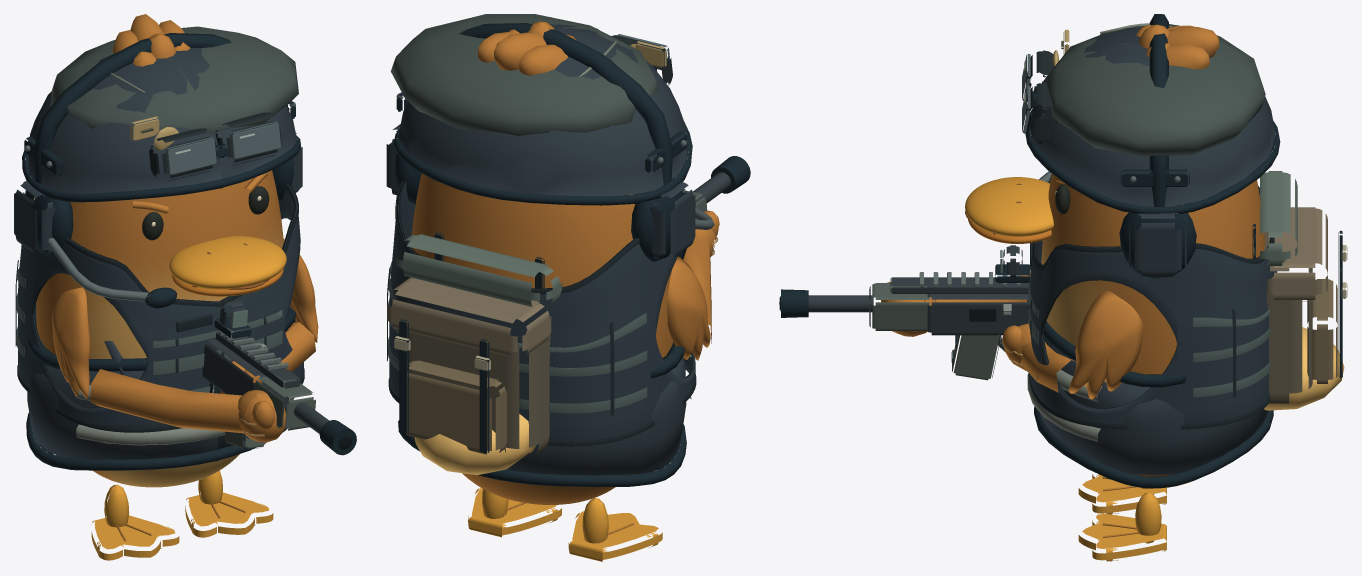
Rendered from duck-fitted.glb.
The picture shows the model from 3 angles, left to right: view 1: azimuth 30°, elevation 25°; view 2: azimuth 150°, elevation 25°; view 3: azimuth 270°, elevation 25°; orthographic projection. The views are drawn at different scales.
Parts seen in each view (by area): view 1: duck_vest_mesh, duck_torso_mesh, duck_helmet_mesh, duck_weapon_mesh, duck_beret_mesh, duck_vestPadded_mesh, duck_headset_mesh, duck_beak_mesh, duck_goggles_mesh, duck_leftArm_mesh, duck_leftFoot_mesh, duck_rightFoot_mesh (+5 smaller); view 2: duck_pack_mesh, duck_vest_mesh, duck_helmet_mesh, duck_beret_mesh, duck_torso_mesh, duck_vestPadded_mesh, duck_headset_mesh, duck_leftFoot_mesh, duck_weapon_mesh, duck_leftArm_mesh, duck_tail_mesh, duck_crestSwept_mesh (+2 smaller); view 3: duck_vest_mesh, duck_beret_mesh, duck_weapon_mesh, duck_helmet_mesh, duck_vestPadded_mesh, duck_pack_mesh, duck_torso_mesh, duck_headset_mesh, duck_rightArm_mesh, duck_beak_mesh, duck_rightFoot_mesh, duck_goggles_mesh (+3 smaller).
Boxes of the visible parts, x1,y1,x2,y2 form: duck_vest_mesh: [15, 183, 304, 432]; duck_torso_mesh: [36, 170, 283, 487]; duck_helmet_mesh: [22, 48, 301, 202]; duck_weapon_mesh: [90, 300, 356, 455]; duck_beret_mesh: [50, 26, 298, 150]; duck_vestPadded_mesh: [26, 305, 295, 470]; duck_headset_mesh: [14, 33, 302, 308]; duck_beak_mesh: [169, 236, 286, 296]; duck_goggles_mesh: [149, 112, 281, 181]; duck_leftArm_mesh: [52, 287, 90, 398]; duck_leftFoot_mesh: [91, 484, 179, 560]; duck_rightFoot_mesh: [185, 470, 273, 537]; duck_pack_mesh: [387, 232, 562, 454]; duck_vest_mesh: [387, 181, 696, 446]; duck_helmet_mesh: [393, 23, 692, 205]; duck_beret_mesh: [390, 14, 658, 135]; duck_torso_mesh: [411, 173, 673, 504]; duck_vestPadded_mesh: [398, 342, 691, 486]; duck_headset_mesh: [386, 23, 714, 261]; duck_leftFoot_mesh: [568, 498, 662, 561]; duck_weapon_mesh: [682, 156, 750, 343]; duck_leftArm_mesh: [667, 256, 710, 360]; duck_tail_mesh: [414, 414, 535, 475]; duck_crestSwept_mesh: [477, 32, 567, 75]; duck_vest_mesh: [1027, 174, 1277, 429]; duck_beret_mesh: [1045, 24, 1265, 156]; duck_weapon_mesh: [779, 245, 1075, 392]; duck_helmet_mesh: [1025, 23, 1280, 214]; duck_vestPadded_mesh: [1027, 321, 1273, 488]; duck_pack_mesh: [1252, 171, 1347, 403]; duck_torso_mesh: [1041, 174, 1264, 488]; duck_headset_mesh: [1039, 14, 1196, 278]; duck_rightArm_mesh: [1068, 290, 1142, 399]; duck_beak_mesh: [965, 177, 1053, 243]; duck_rightFoot_mesh: [1078, 492, 1166, 561]; duck_goggles_mesh: [1022, 50, 1057, 144].
Size of the model in its own units: 1.15 by 1.98 by 2.06.
